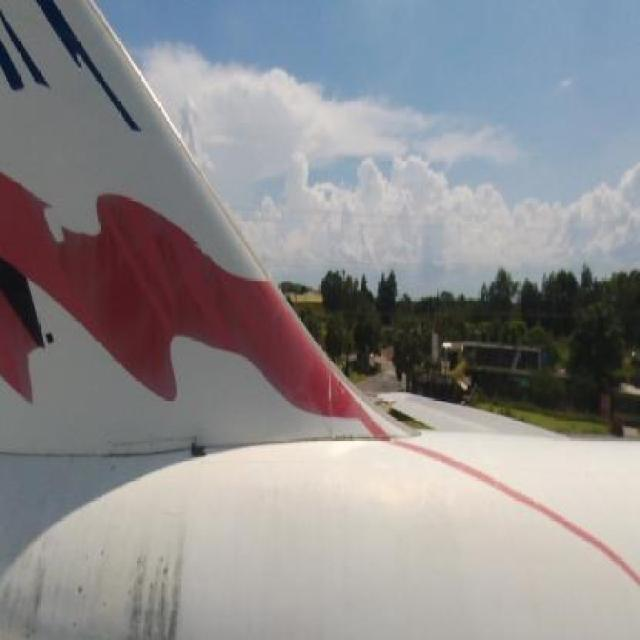Rust: (3, 471, 206, 640)
